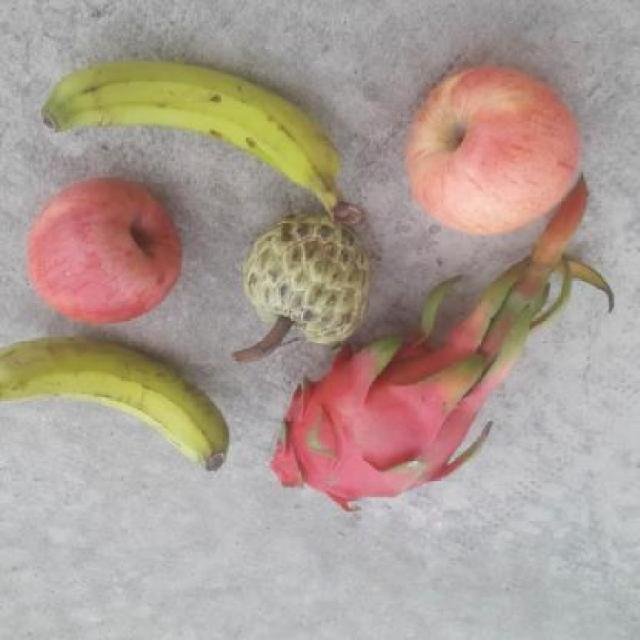apple: (408, 63, 584, 239), (24, 173, 188, 329)
banana: (40, 61, 345, 201), (1, 338, 230, 482)
dragon fruit: (274, 338, 483, 507)
sugar apple: (245, 204, 378, 342)
